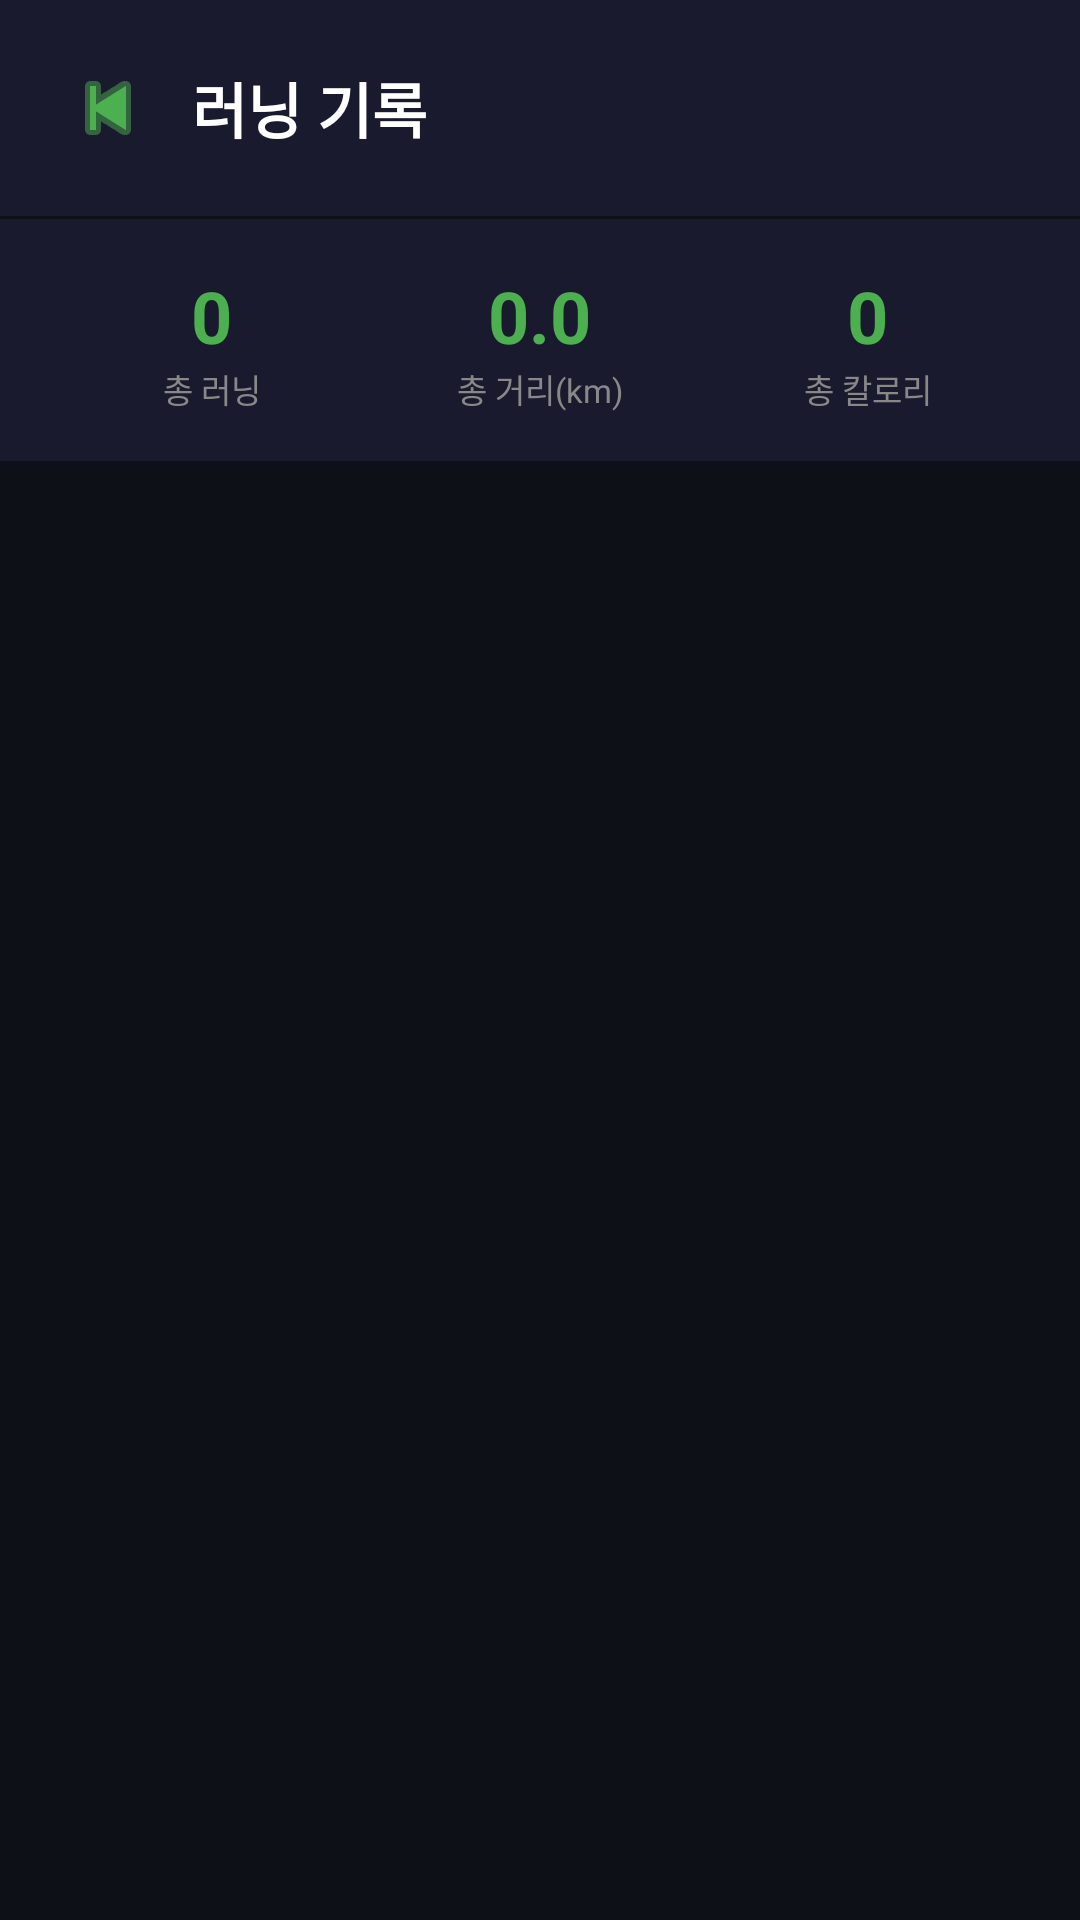

Named icons in this screenshot (1080px×1920px) and their bounding boxes, bbox=[x1, y1, x2, y2]:
뒤로: bbox=[85, 81, 131, 135]
